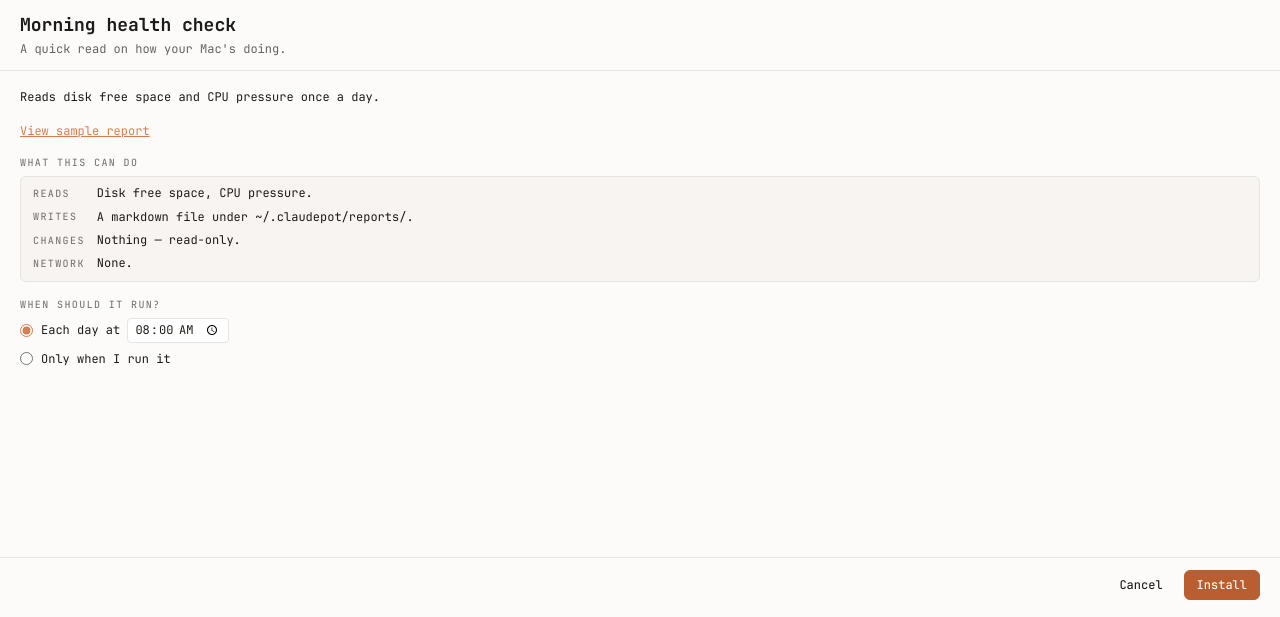
Scenario: TemplateInstallView — install action › disables Install + shows 'Installing…' while the request is in flight
This screenshot has width=1280, height=617.
Click the button "Install". click: point(1222, 585)
box: [1184,570,1260,600]
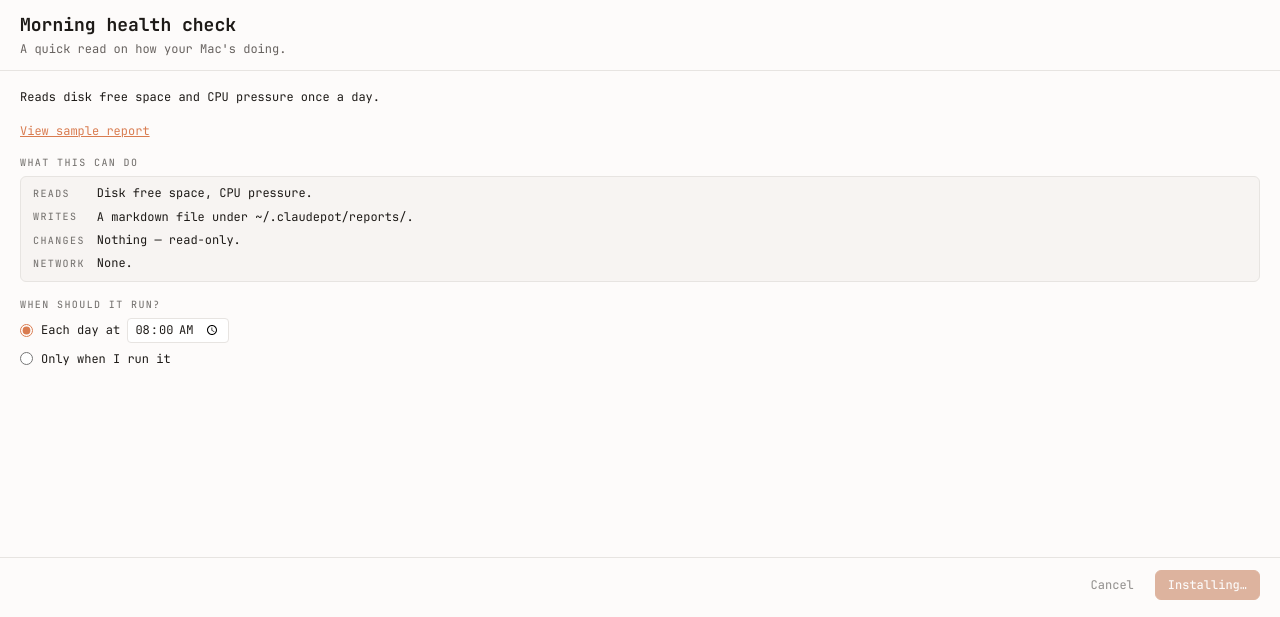
Check: the button "Installing…" is disabled, box [1155,570,1260,600]
Check: the button "Cancel" is disabled, box [1078,570,1147,600]
